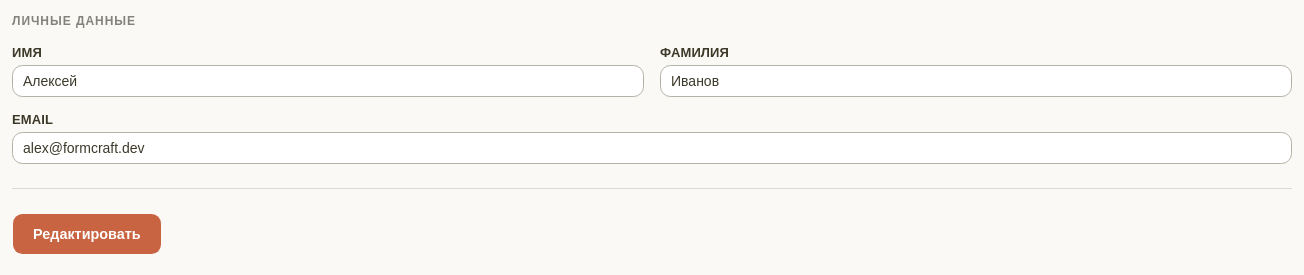
ProfileForm › «Редактировать» разблокирует поля и заменяет кнопку на «Отменить»
The image size is (1304, 275).
expect the button "Отменить" is not shown: met
Step 1. Click the button "Редактировать" → [87, 234], box [12,213,162,255]
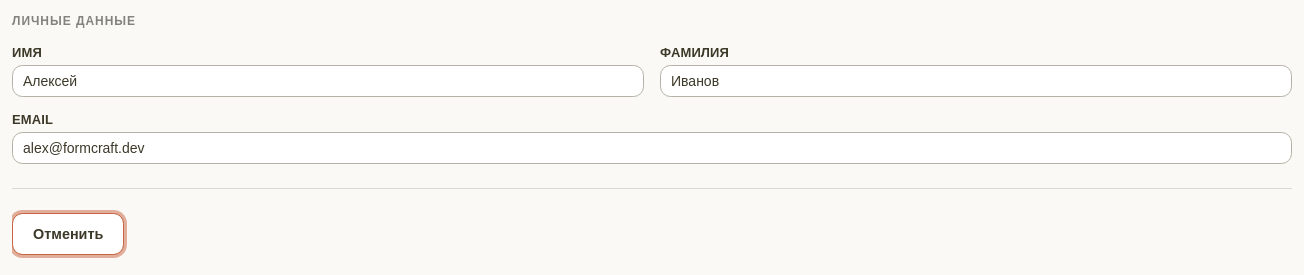
expect the button "Отменить" is shown: met, box [12,213,124,255]
expect the button "Редактировать" is gone: met
